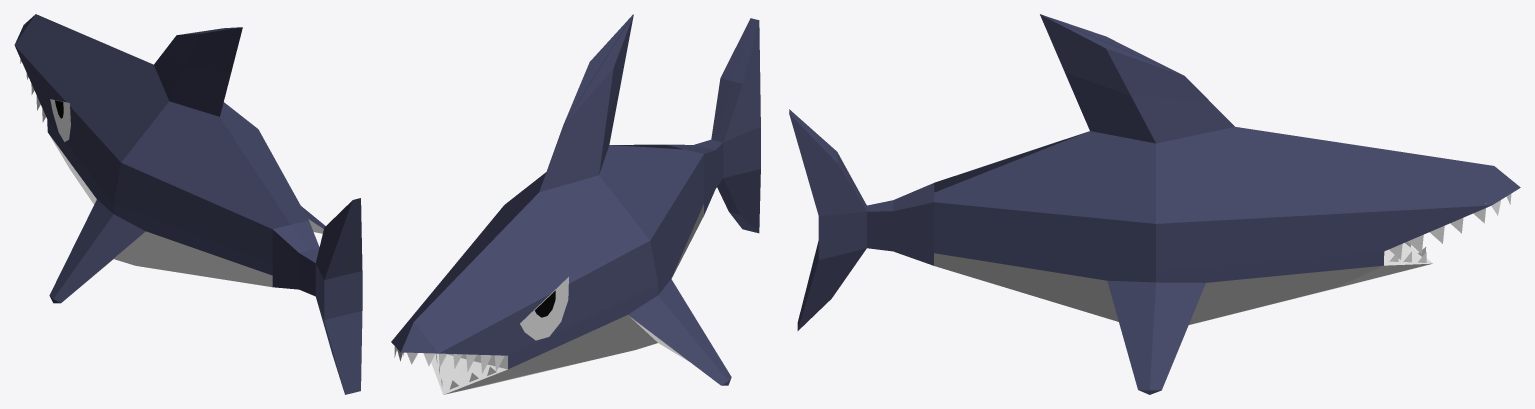
Rendered from shark_patrol.fbx.
3 renders of one model, left to right at view 1: azimuth 30°, elevation 25°; view 2: azimuth 150°, elevation 25°; view 3: azimuth 270°, elevation 25°, orthographic. The views are drawn at different scales.
Visible parts, largest first — view 1: Cube.005; view 2: Cube.005; view 3: Cube.005.
Part boxes in pixels (bbox=[...]): Cube.005: bbox=[14, 14, 362, 394]; Cube.005: bbox=[391, 14, 760, 394]; Cube.005: bbox=[789, 14, 1520, 394].
Size of the model in its own units: 366 by 358 by 759.
